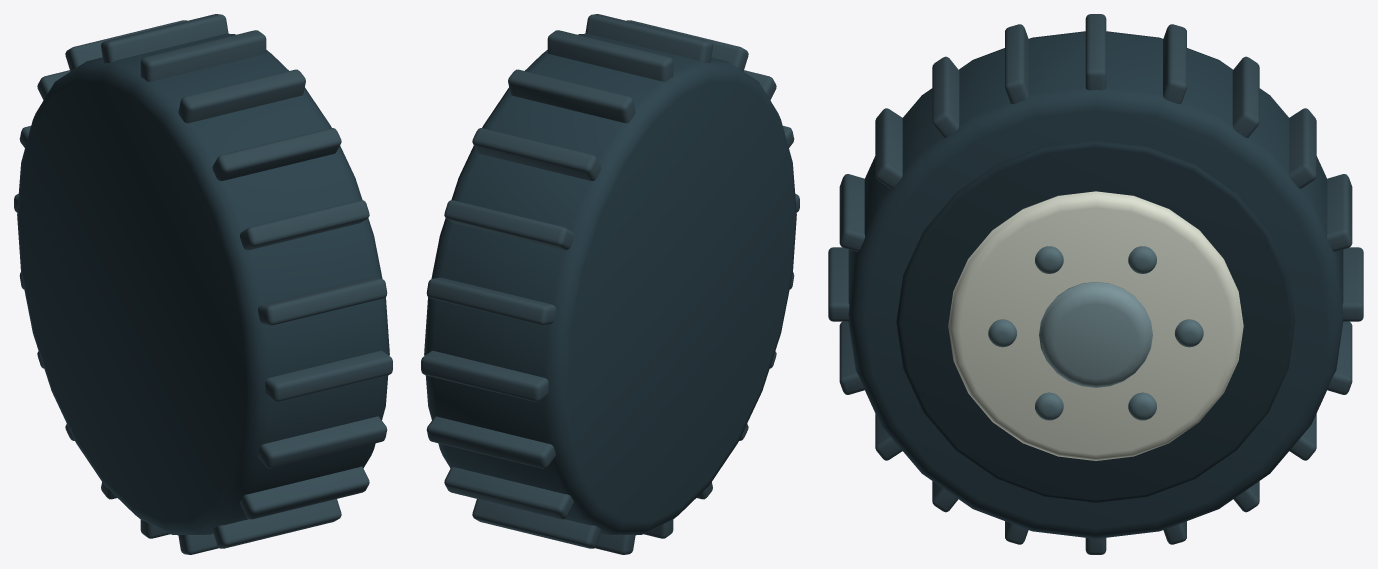
File: wheel.glb
3 renders of one model, left to right at view 1: azimuth 30°, elevation 25°; view 2: azimuth 150°, elevation 25°; view 3: azimuth 270°, elevation 25°, orthographic.
Visible parts, largest first — view 1: Tire; view 2: Tire; view 3: Tire.
Part boxes in pixels (x1=…): Tire: x1=14, y1=14, x2=392, y2=554; Tire: x1=421, y1=14, x2=799, y2=554; Tire: x1=828, y1=14, x2=1363, y2=554.
Size of the model in its own units: 0.42 by 1.03 by 1.03.
